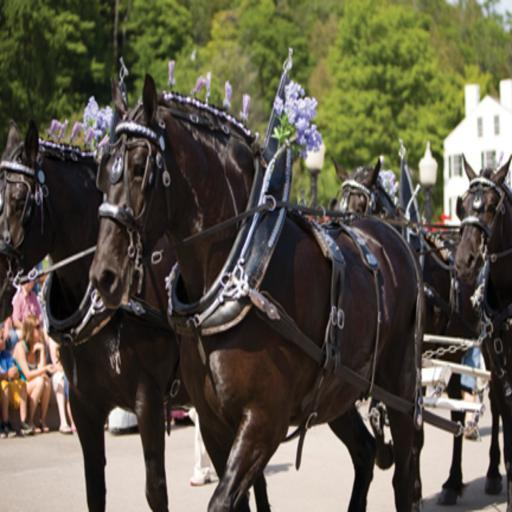horse: (89, 72, 427, 510), (0, 118, 198, 510), (330, 159, 486, 509), (454, 154, 511, 510)
